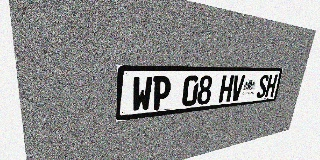0: (181, 76, 200, 107)
8: (196, 75, 214, 105)
H: (218, 75, 234, 103), (265, 75, 278, 97)
P: (151, 76, 172, 110)
S: (256, 75, 270, 98)
V: (230, 75, 245, 101)
W: (131, 76, 153, 112)
